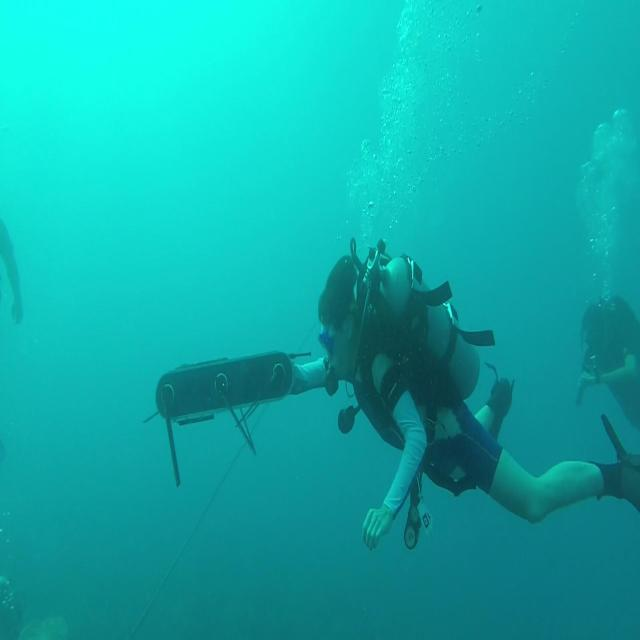human: (317, 238, 639, 551), (574, 294, 639, 431)
